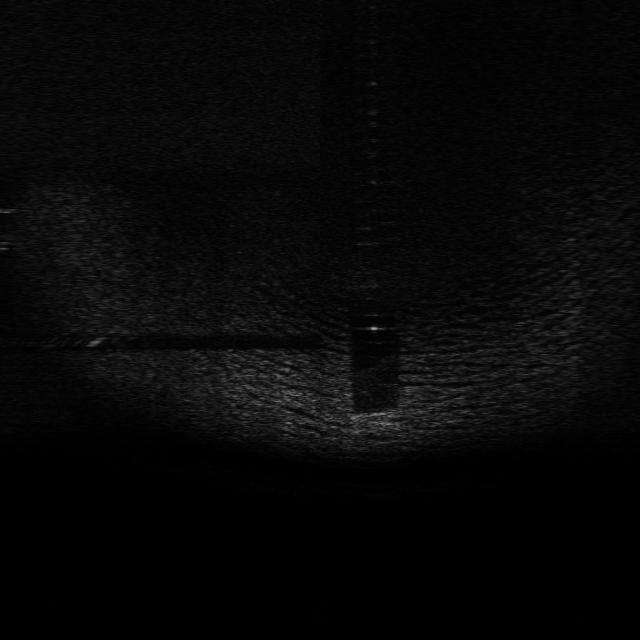cube: (351, 410, 403, 439)
